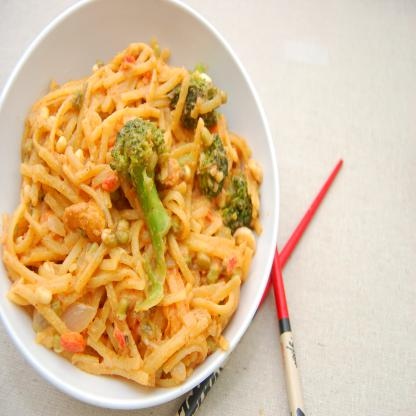Pad Thai: (7, 25, 267, 393)
